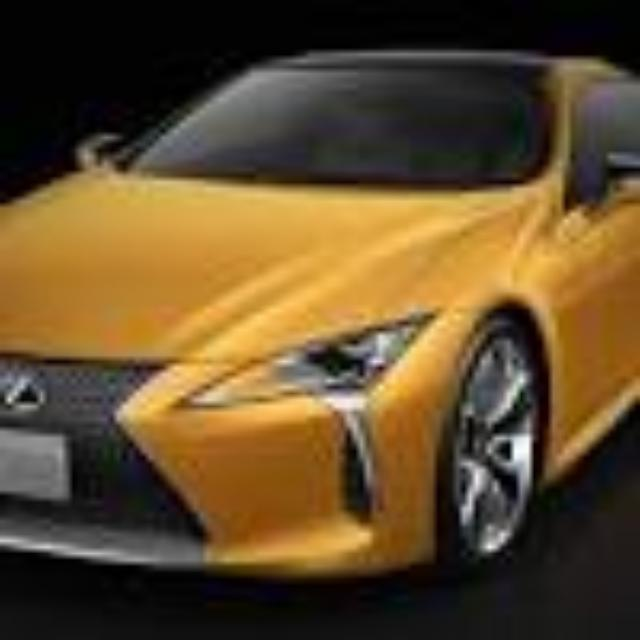lexus: (0, 52, 640, 580)
